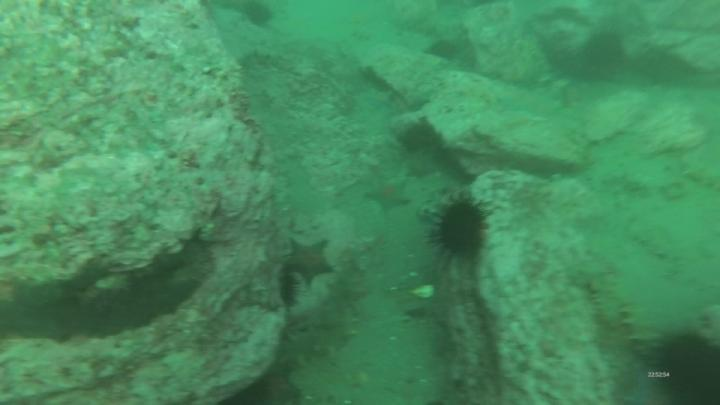echinus: (436, 202, 483, 258), (669, 341, 718, 394), (590, 29, 623, 68), (248, 2, 274, 27), (436, 39, 458, 60)
holothurian: (275, 325, 343, 373), (327, 270, 360, 339), (626, 299, 662, 361), (591, 283, 626, 326)
scallop: (412, 284, 437, 300)
starfish: (287, 239, 337, 283), (372, 172, 412, 214)
